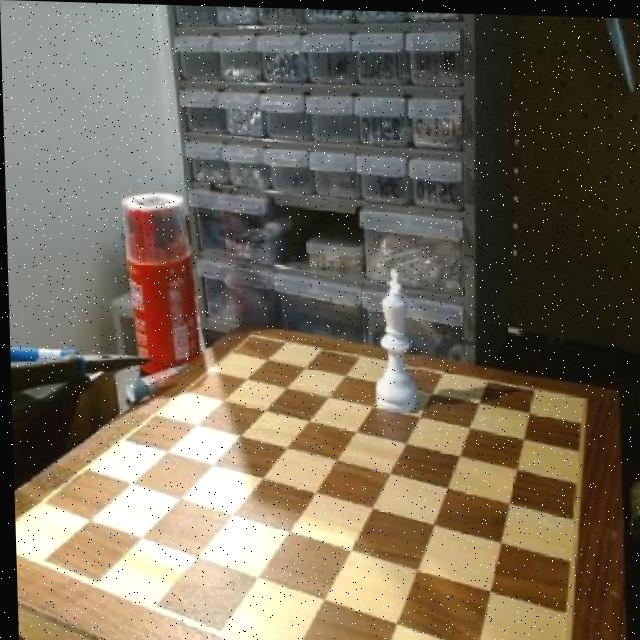white-bishop: (370, 262, 417, 412)
